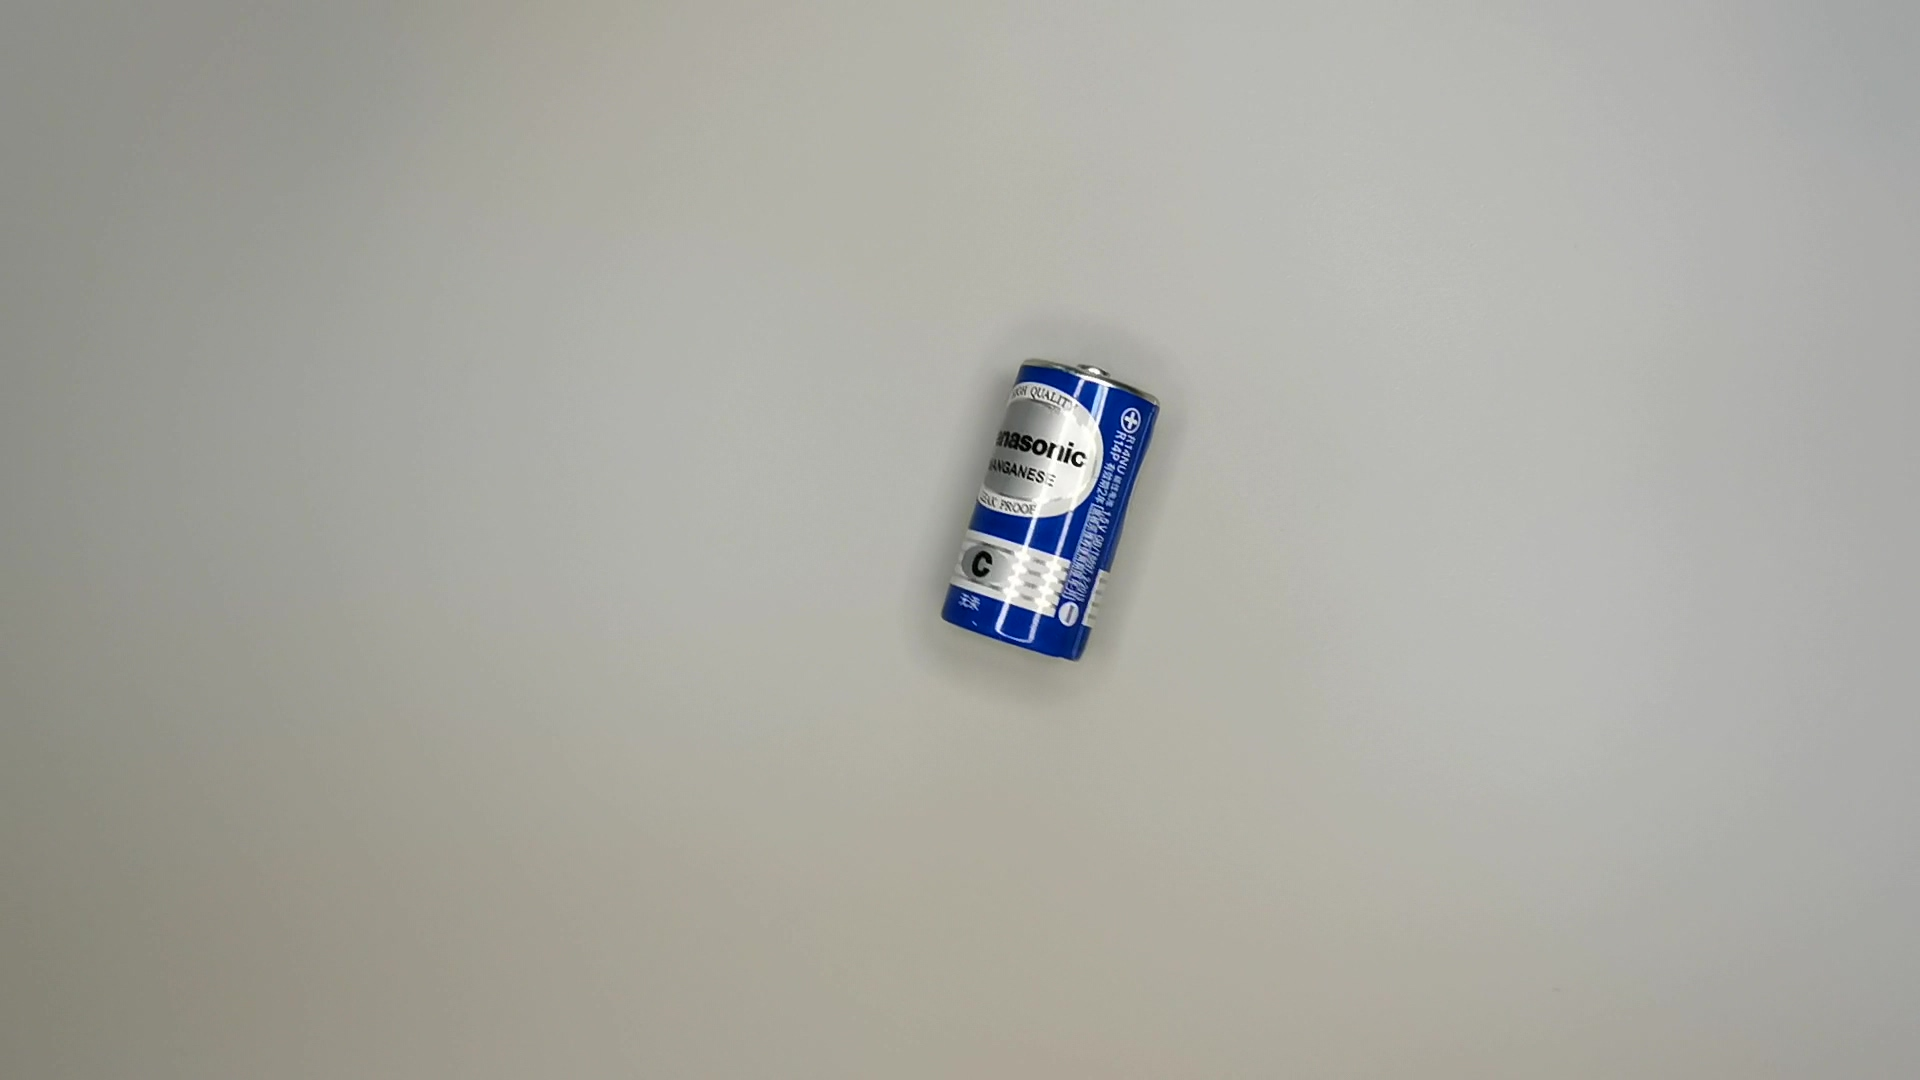battery: (934, 352, 1167, 671)
